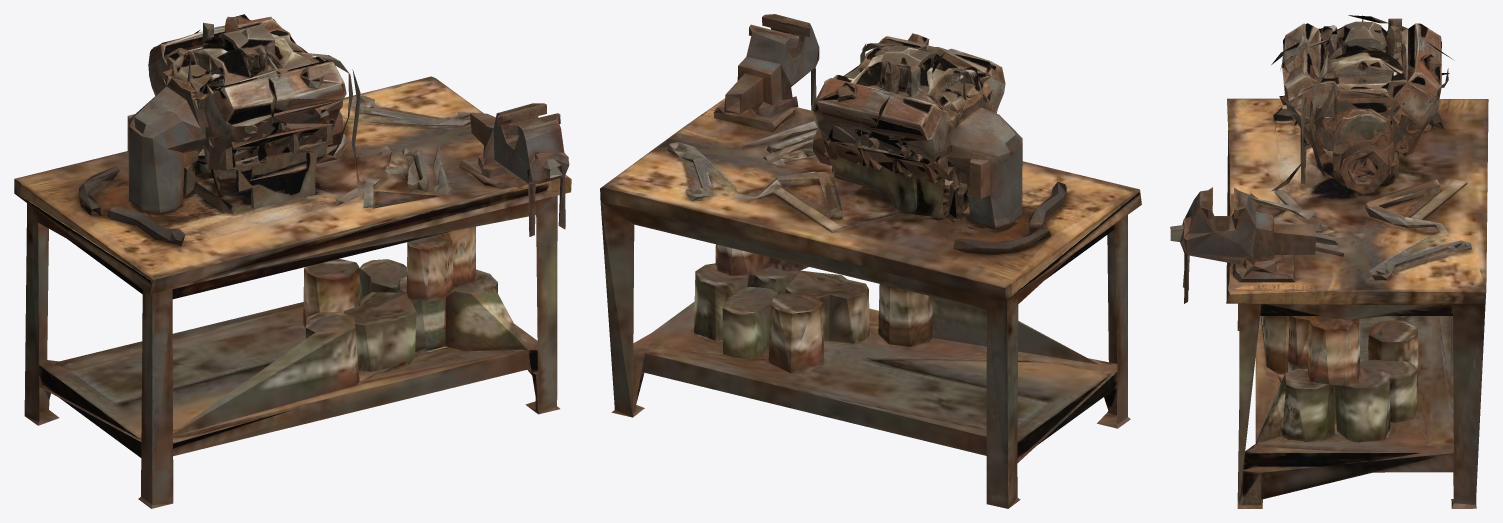
Rendered from prop-workbench.glb.
3 renders of one model, left to right at view 1: azimuth 30°, elevation 25°; view 2: azimuth 150°, elevation 25°; view 3: azimuth 270°, elevation 25°, orthographic. The views are drawn at different scales.
Size of the model in its own units: 1.89 by 1.68 by 1.31.
1 material, 1 textured.
